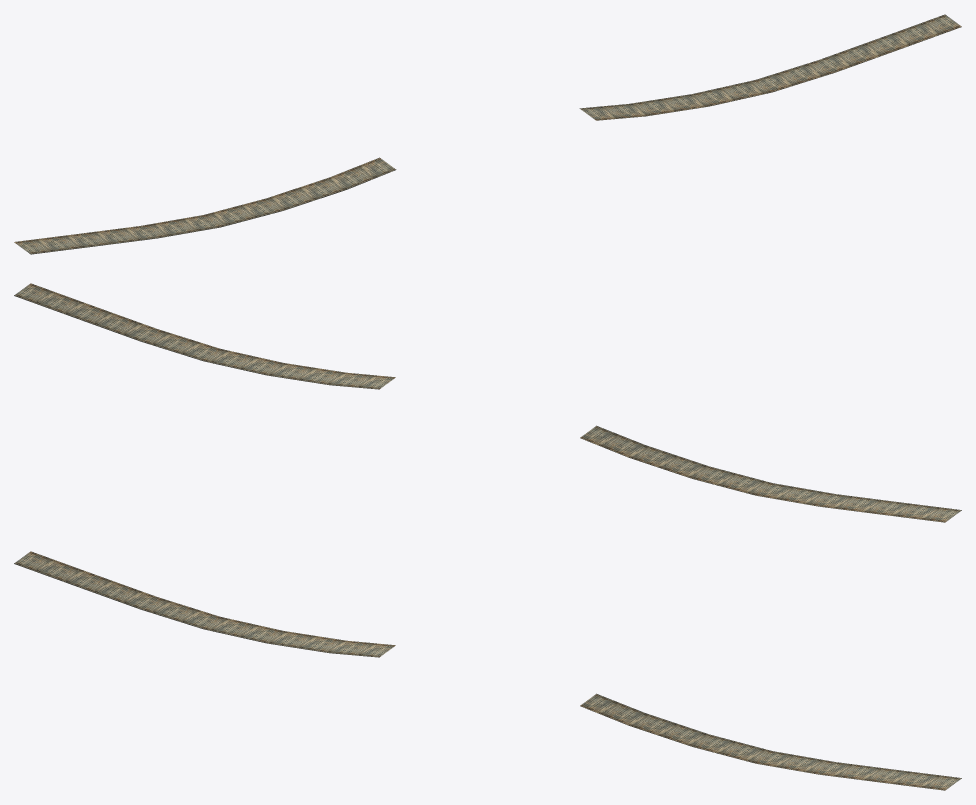
3 views of the same model, one above another, from view 1: azimuth 30°, elevation 25°; view 2: azimuth 150°, elevation 25°; view 3: azimuth 330°, elevation 25° (orthographic).
Parts seen in each view (by area): view 1: T; view 2: T; view 3: T.
Part boxes in pixels (bbox=[...]): T: bbox=[14, 14, 961, 254]; T: bbox=[14, 283, 961, 522]; T: bbox=[14, 551, 961, 790].
Bounding box in the file's own units: 1596 × 31.93 × 51.24.
